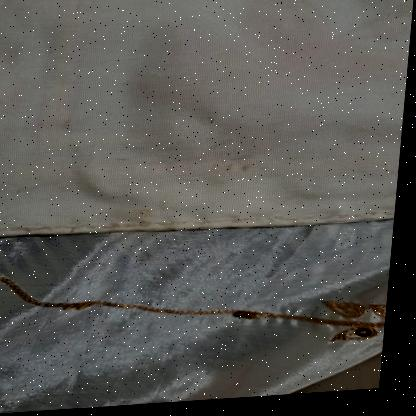spot: (138, 209, 162, 223), (242, 166, 262, 180), (209, 117, 227, 128), (225, 166, 241, 175), (210, 164, 223, 175)
